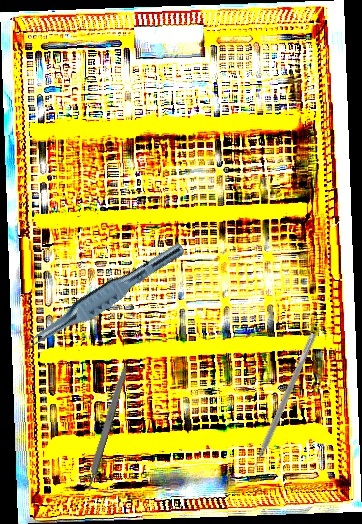Scalpel Handle: (82, 361, 131, 492)
Spatula Surgical: (244, 329, 317, 477)
Tissue Forceps: (19, 232, 187, 361)
